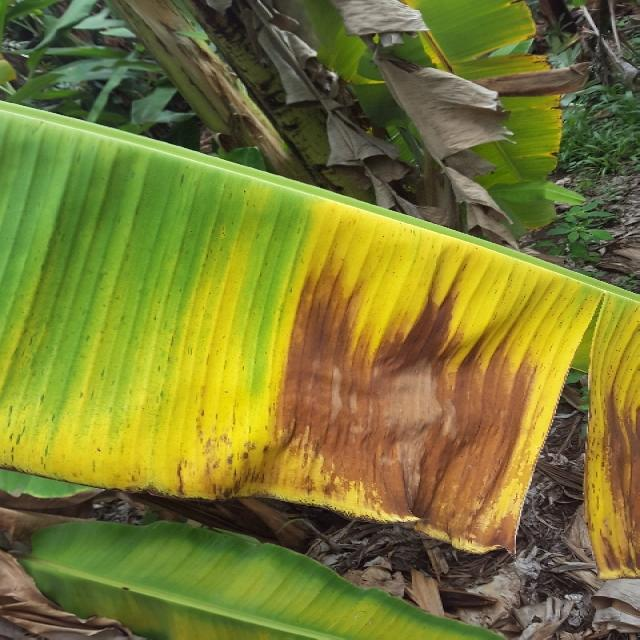Cordana: (20, 160, 640, 582), (47, 527, 508, 640), (358, 0, 617, 185), (0, 45, 35, 94)
